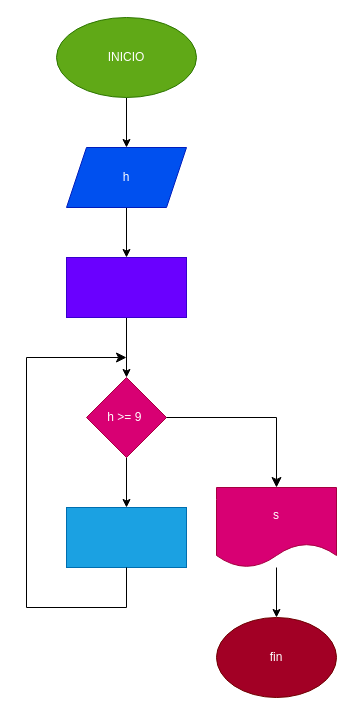
The diagram is 354 pixels wide and 715 high, and some of its shapes have lost their labels. The shapes that lost their labels are listed below. From the top down, each one's box as (x1, y1, x2, y2) in pixels, then its label:
(66, 256, 186, 318): q = h/5 n = 0
(66, 506, 186, 568): h = 0.9h n = n+1
